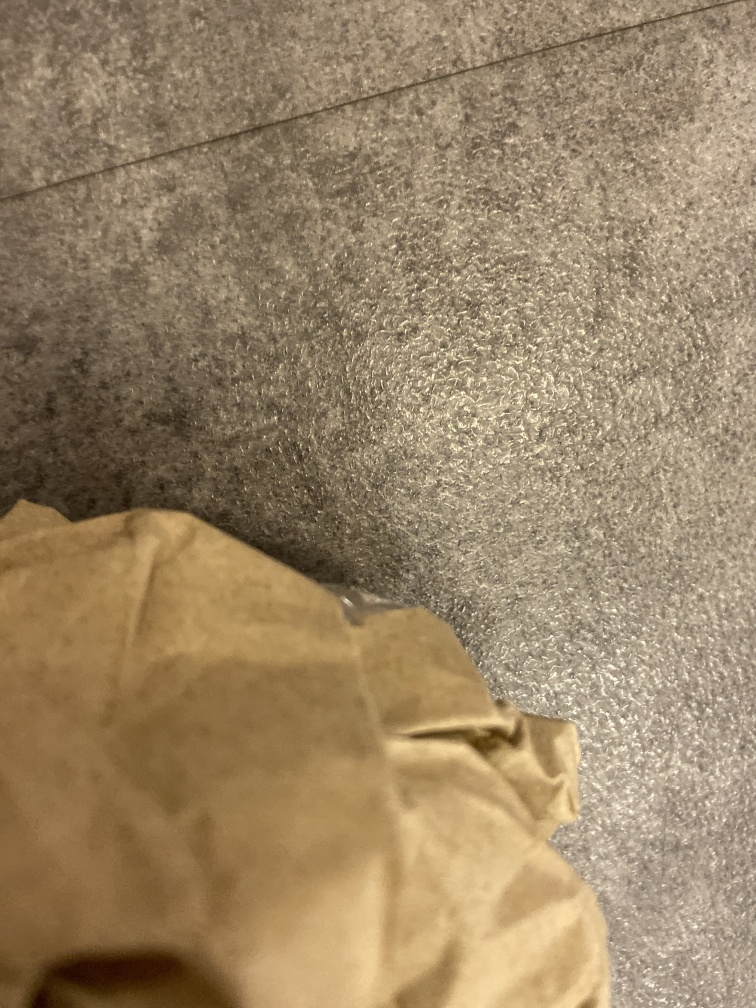paper_brown: (1, 493, 615, 1008)
